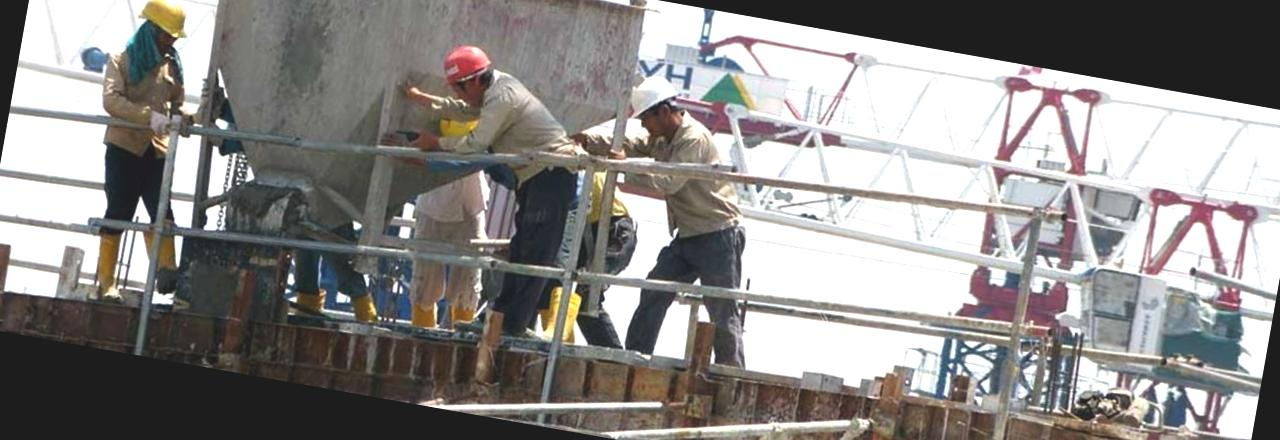helmet: (128, 0, 201, 55), (442, 40, 498, 104), (629, 66, 681, 129)
no_vest: (468, 69, 582, 206), (648, 122, 759, 245), (110, 50, 188, 189)
person: (578, 58, 794, 376), (402, 42, 604, 344), (80, 0, 201, 309)
